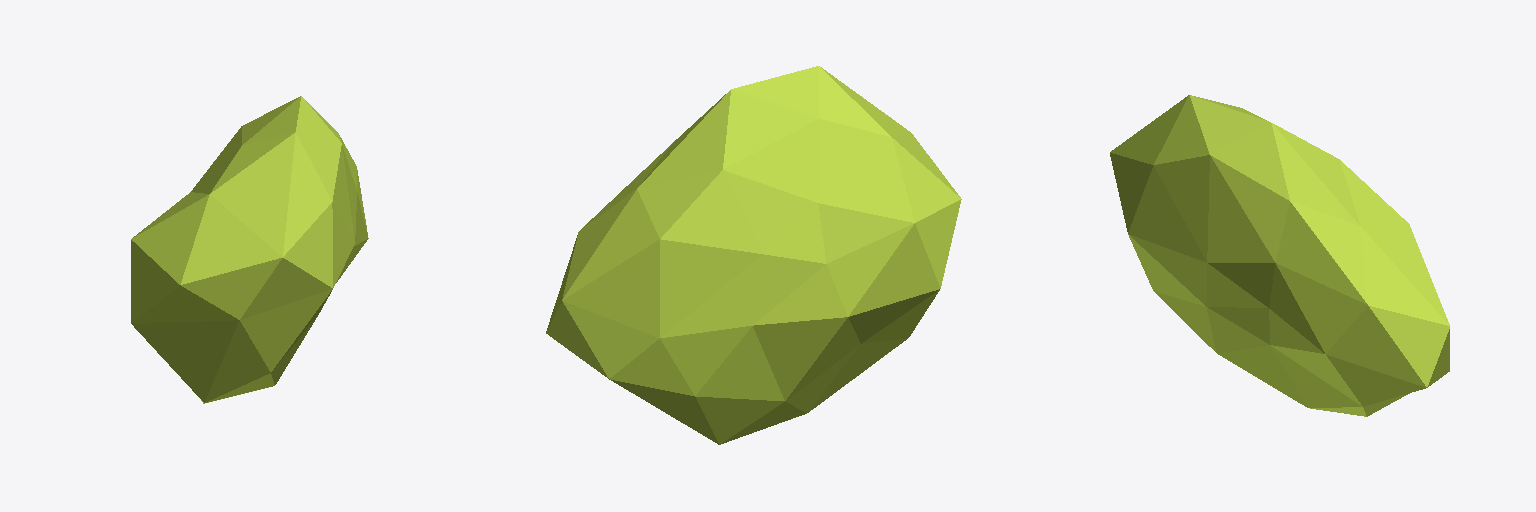
The model's file is Rock3.obj.
The picture shows the model from 3 angles: view 1: azimuth 30°, elevation 25°; view 2: azimuth 150°, elevation 25°; view 3: azimuth 270°, elevation 25°; orthographic projection.
Visible parts, largest first — view 1: GeoSphere001; view 2: GeoSphere001; view 3: GeoSphere001.
Part boxes in pixels (bbox=[...]): GeoSphere001: bbox=[131, 96, 368, 403]; GeoSphere001: bbox=[546, 66, 961, 444]; GeoSphere001: bbox=[1110, 95, 1449, 416].
Bounding box in the file's own units: 2.28 × 2.33 × 2.27.